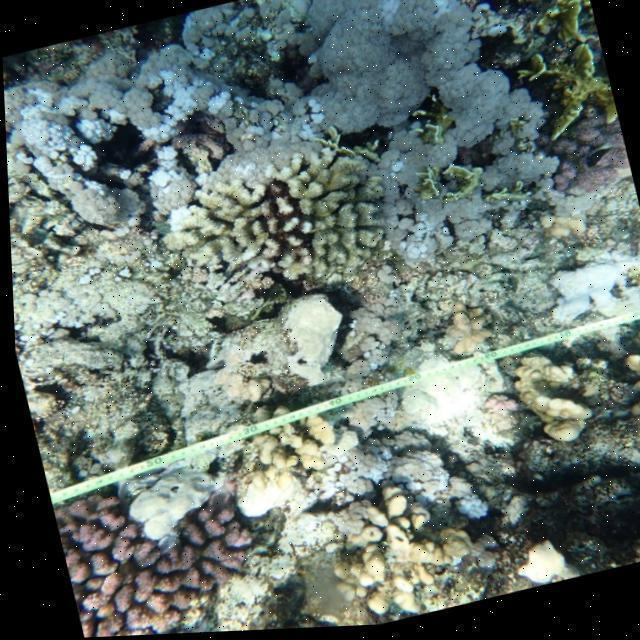Bleached Coral: (0, 0, 318, 246), (234, 425, 446, 562), (379, 340, 523, 472), (547, 243, 640, 356), (259, 285, 362, 387), (121, 446, 213, 550), (431, 474, 511, 551)
Healthy Coral: (282, 0, 569, 254), (61, 520, 244, 623)
